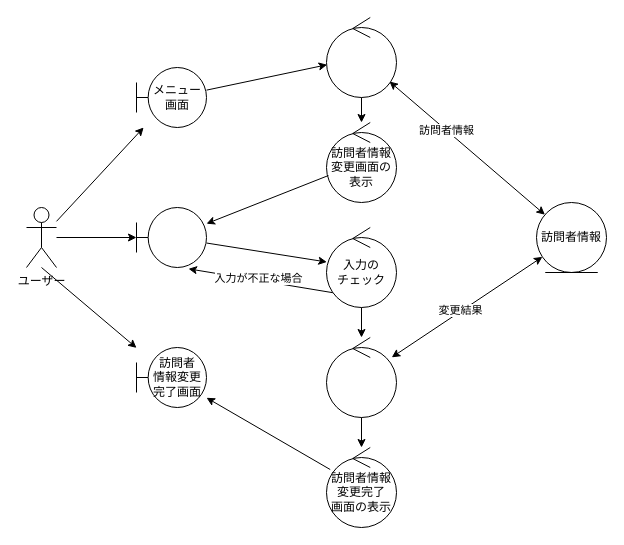
This 624x545 diagram has some shape labels left out. The centre of each missing label's shape, as x and y in pixels:
"訪問者 情報 変更画面" belongs at point (171, 237).
"訪問者情報 の更新" belongs at point (361, 377).
"訪問者情報の取得" belongs at point (361, 57).
